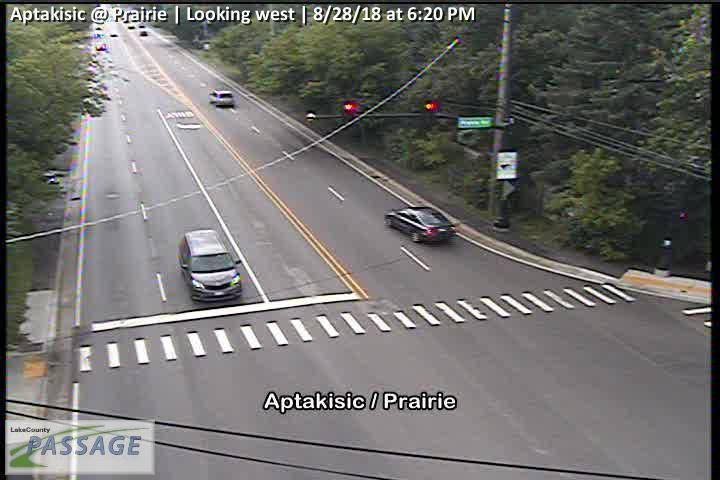SUV: (177, 230, 243, 300), (208, 90, 235, 107)
Sedan: (385, 206, 456, 245), (95, 42, 107, 50), (139, 30, 147, 35), (128, 25, 135, 29), (139, 23, 145, 27), (95, 26, 103, 29), (111, 33, 117, 37)
